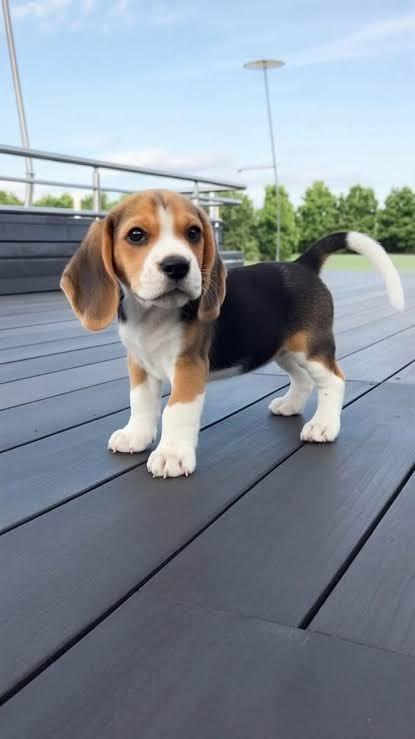puppy-dog: (60, 188, 407, 480)
